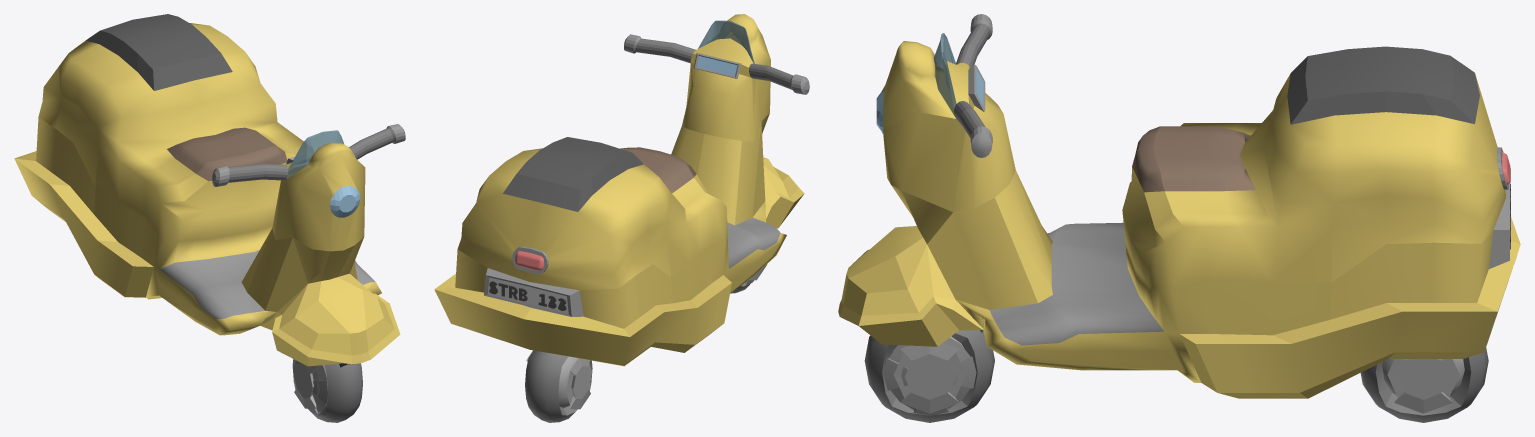
The model's file is MopedFBX.fbx.
3 views of the same model, side by side, from view 1: azimuth 30°, elevation 25°; view 2: azimuth 150°, elevation 25°; view 3: azimuth 270°, elevation 25° (orthographic). The views are drawn at different scales.
Visible parts, largest first — view 1: pCube32; view 2: pCube32; view 3: pCube32.
Part boxes in pixels (<box>): pCube32: <box>14,14,405,422</box>; pCube32: <box>434,14,809,422</box>; pCube32: <box>838,14,1520,422</box>.
Size of the model in its own units: 102 by 136 by 221.
